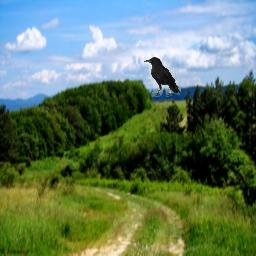Crow: (143, 57, 181, 97)
